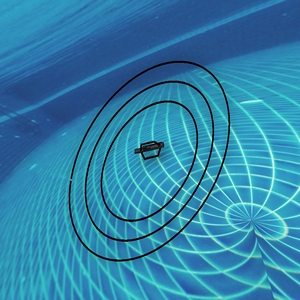circle: (56, 45, 264, 300)
submarine: (137, 142, 163, 159)
